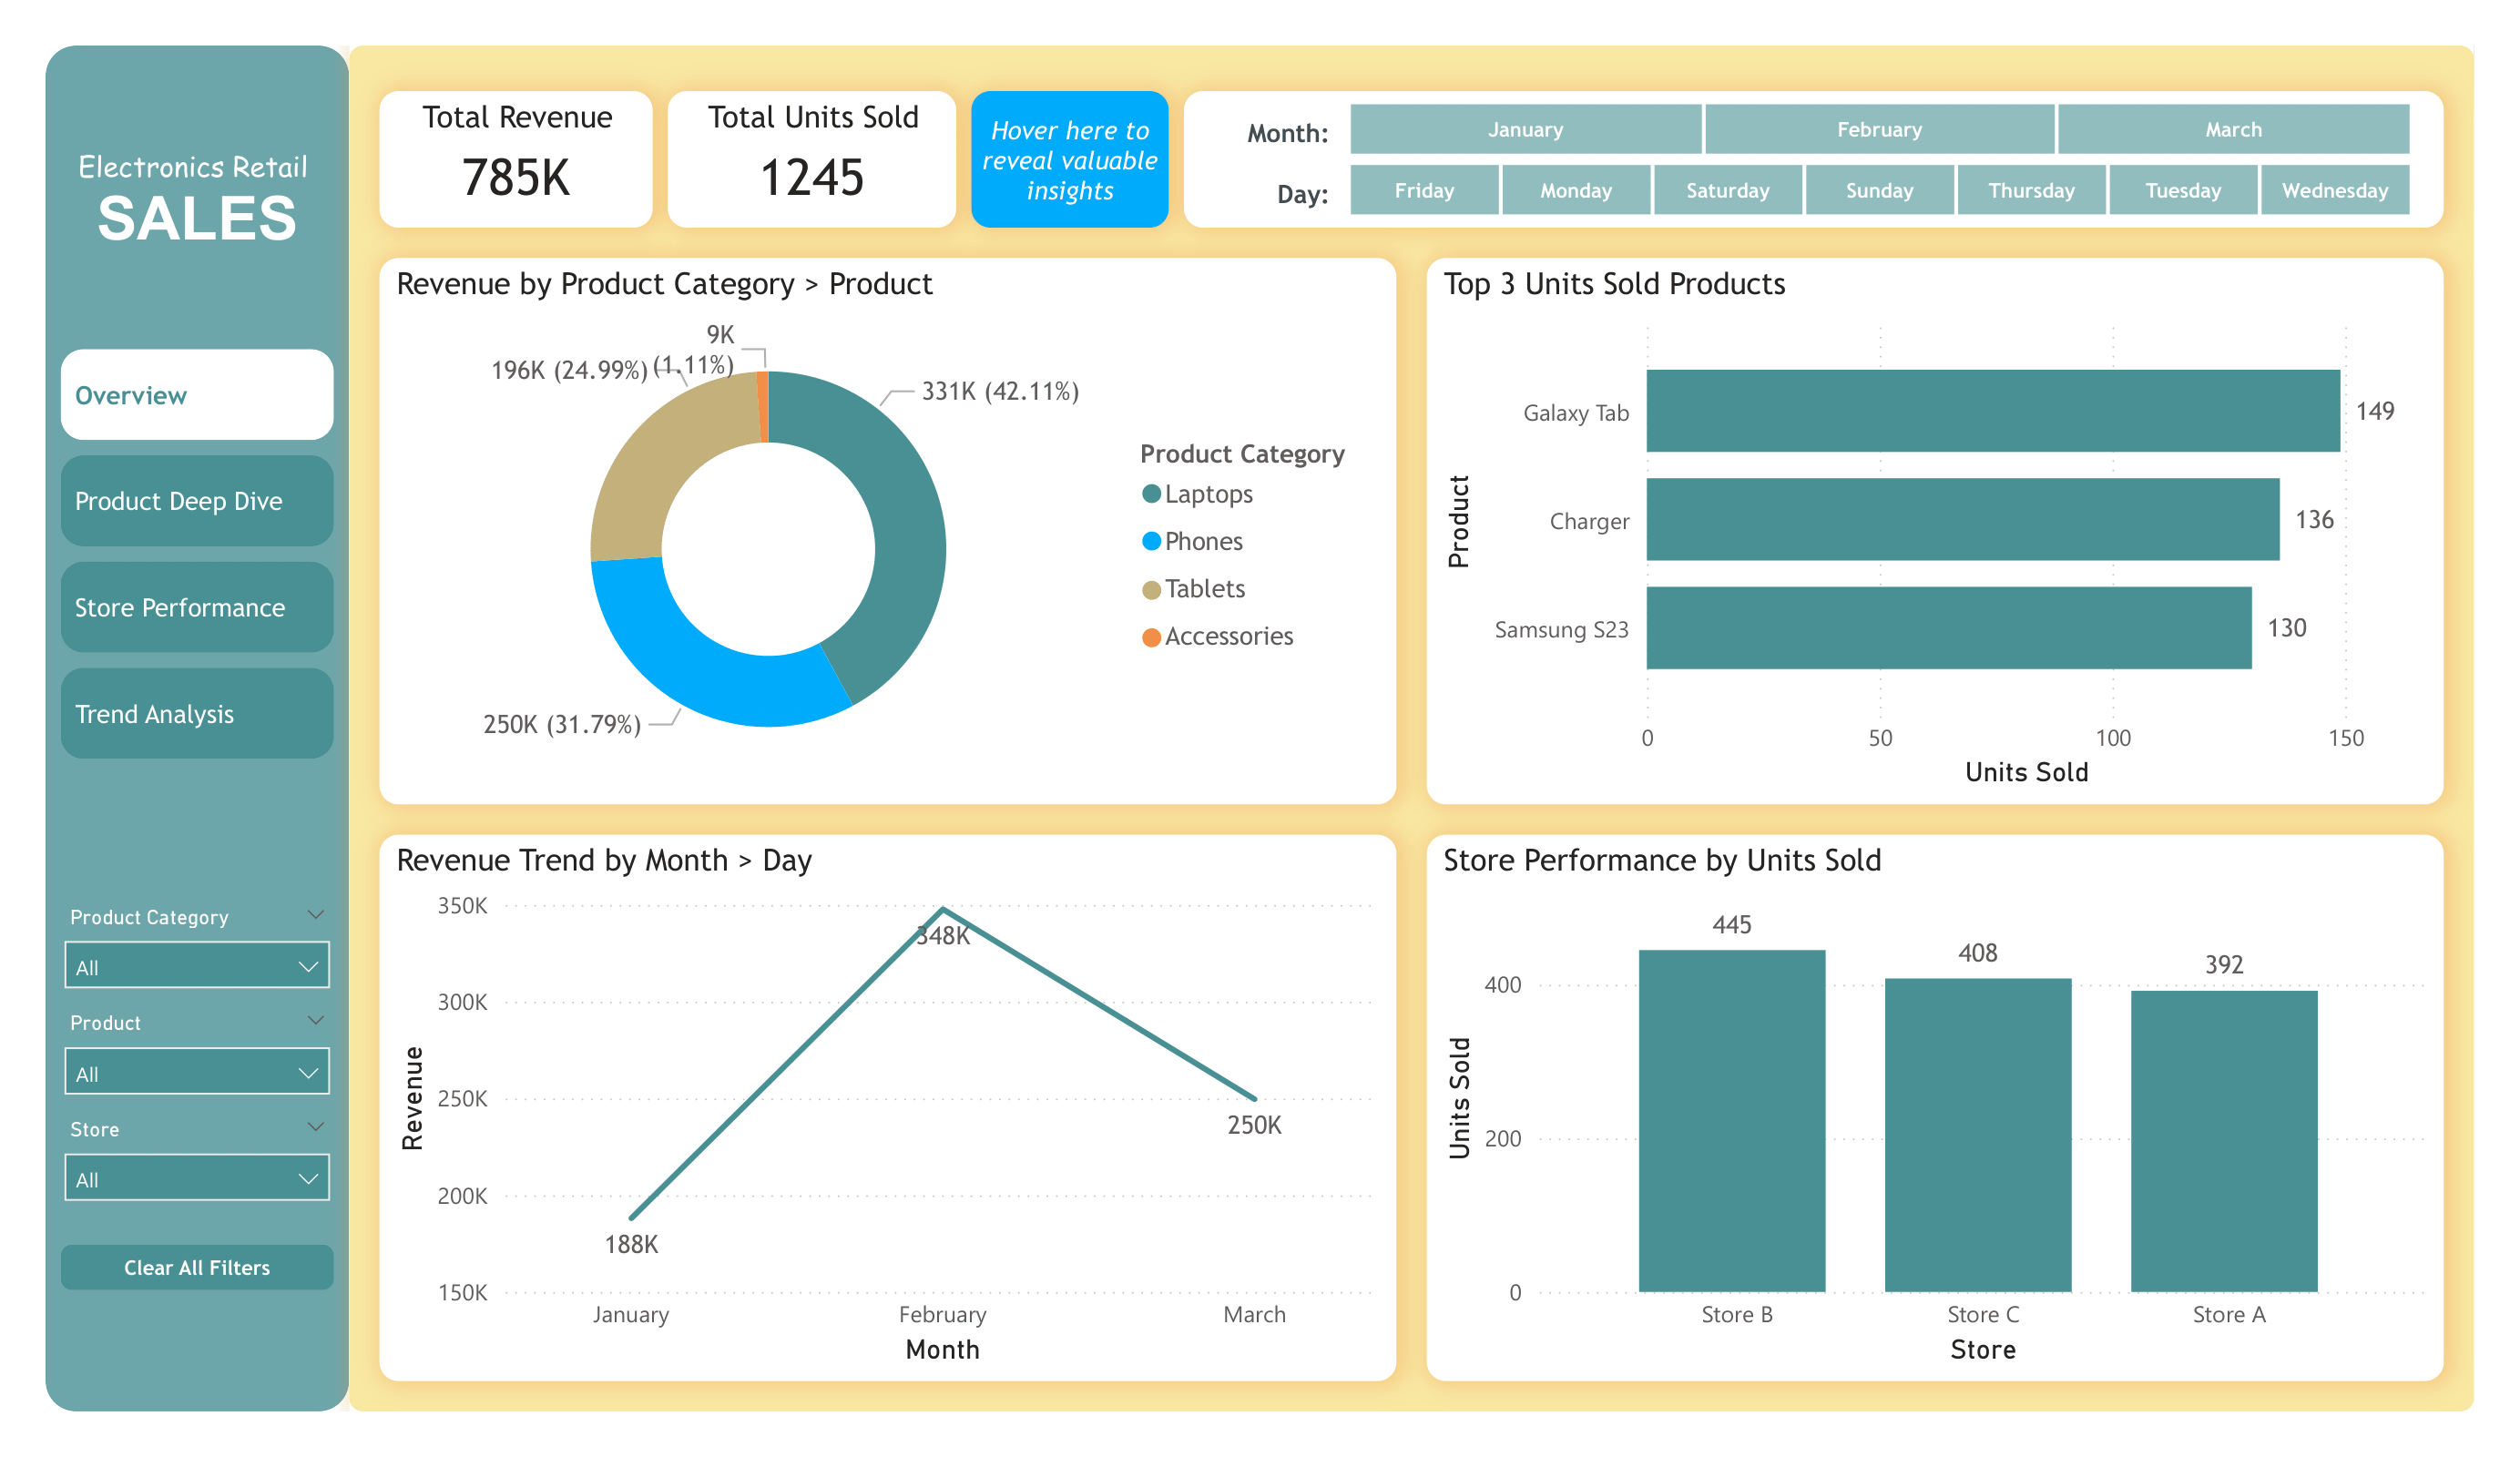

The dashboard page shown, as its layout file describes it:
{"tool":"powerbi","page":{"name":"Overview","canvas":[1280,720],"ordinal":0},"visuals":[{"type":"group","id":"g1","title":"Group 1","box":[0,0,1280,720],"z":0},{"type":"shape","box":[0,0,160,720],"z":0,"group":"g1"},{"type":"shape","box":[160,0,1120,720],"z":1000,"group":"g1"},{"type":"card","title":"Total Revenue","fields":{"Values":["Sum(RR-PRAC4 - retail_sales_q1_2025_large.Revenue)"]},"box":[176,24,144,72],"z":1000},{"type":"shape","box":[600,24,664,72],"z":1000,"group":"g2"},{"type":"donutChart","title":"Revenue by Product Category > Product","fields":{"Category":["RR-PRAC4 - retail_sales_q1_2025_large.Product Category","RR-PRAC4 - retail_sales_q1_2025_large.Product"],"Y":["Sum(Sales_Q12025.Revenue)"]},"box":[176,112,536,288],"z":2000},{"type":"clusteredColumnChart","title":"Store Performance by Units Sold","fields":{"Category":["RR-PRAC4 - retail_sales_q1_2025_large.Store"],"Y":["Sum(RR-PRAC4 - retail_sales_q1_2025_large.Units Sold)"]},"box":[728,416,536,288],"z":3000},{"type":"clusteredBarChart","title":"Top 3 Units Sold Products","fields":{"Category":["RR-PRAC4 - retail_sales_q1_2025_large.Product"],"Y":["Sum(Sales_Q12025.Units Sold)"]},"box":[728,112,536,288],"z":4000},{"type":"lineChart","title":"Revenue Trend by Month > Day","fields":{"Category":["Dates.Date.Variation.Date Hierarchy.Month","Dates.Date.Variation.Date Hierarchy.Day"],"Y":["Sum(Sales_Q12025.Revenue)"]},"box":[176,416,536,288],"z":5000},{"type":"card","title":"Total Units Sold","fields":{"Values":["Sales_Q12025.Total Units Sold"]},"box":[328,24,152,72],"z":6000},{"type":"textbox","box":[0,48,160,80],"z":7000},{"type":"slicer","fields":{"Values":["Dates.Date.Variation.Date Hierarchy.Month"]},"box":[667.4,23.8,602.5,40],"z":8000,"group":"g2"},{"type":"actionButton","box":[8,272,144,48],"z":8000},{"type":"textbox","box":[609.8,31.3,72,32],"z":9000,"group":"g2"},{"type":"actionButton","box":[8,216,144,48],"z":9000},{"type":"actionButton","box":[8,328,144,48],"z":10000},{"type":"slicer","fields":{"Values":["Sales_Q12025.Product Category"]},"box":[0,448,160,56],"z":11000},{"type":"slicer","fields":{"Values":["Sales_Q12025.Product"]},"box":[0,504,160,56],"z":12000},{"type":"actionButton","box":[8,160,144,48],"z":13000},{"type":"actionButton","box":[8,632,144,24],"z":14000},{"type":"card","fields":{"Values":["Sales_Q12025.InsightHint"]},"box":[488,24,104,72],"z":15000},{"type":"slicer","fields":{"Values":["Sales_Q12025.Store"]},"box":[0,560,160,56],"z":16000},{"type":"group","id":"g2","title":"Group 2","box":[600,23.8,669.9,72.2],"z":17000},{"type":"slicer","fields":{"Values":["Dates.DayOfWeek"]},"box":[667.4,55.8,602.5,40],"z":17000,"group":"g2"},{"type":"textbox","box":[617.8,63.3,64,32],"z":19000,"group":"g2"}]}

Visuals, with their boxes on the page's 1280x720 design canvas (x1, y1, x2, y2). These are canvas units, not pixel positions in the 2520x1457 screenshot, which may show the page scaled, cropped or inside an application window:
"Group 1" group: {"left": 0, "top": 0, "right": 1280, "bottom": 720}
shape: {"left": 0, "top": 0, "right": 160, "bottom": 720}
shape: {"left": 160, "top": 0, "right": 1280, "bottom": 720}
"Total Revenue" card: {"left": 176, "top": 24, "right": 320, "bottom": 96}
shape: {"left": 600, "top": 24, "right": 1264, "bottom": 96}
"Revenue by Product Category > Product" donutChart: {"left": 176, "top": 112, "right": 712, "bottom": 400}
"Store Performance by Units Sold" clusteredColumnChart: {"left": 728, "top": 416, "right": 1264, "bottom": 704}
"Top 3 Units Sold Products" clusteredBarChart: {"left": 728, "top": 112, "right": 1264, "bottom": 400}
"Revenue Trend by Month > Day" lineChart: {"left": 176, "top": 416, "right": 712, "bottom": 704}
"Total Units Sold" card: {"left": 328, "top": 24, "right": 480, "bottom": 96}
textbox: {"left": 0, "top": 48, "right": 160, "bottom": 128}
slicer - Dates.Date.Variation.Date Hierarchy.Month: {"left": 667, "top": 24, "right": 1270, "bottom": 64}
actionButton: {"left": 8, "top": 272, "right": 152, "bottom": 320}
textbox: {"left": 610, "top": 31, "right": 682, "bottom": 63}
actionButton: {"left": 8, "top": 216, "right": 152, "bottom": 264}
actionButton: {"left": 8, "top": 328, "right": 152, "bottom": 376}
slicer - Sales_Q12025.Product Category: {"left": 0, "top": 448, "right": 160, "bottom": 504}
slicer - Sales_Q12025.Product: {"left": 0, "top": 504, "right": 160, "bottom": 560}
actionButton: {"left": 8, "top": 160, "right": 152, "bottom": 208}
actionButton: {"left": 8, "top": 632, "right": 152, "bottom": 656}
card - Sales_Q12025.InsightHint: {"left": 488, "top": 24, "right": 592, "bottom": 96}
slicer - Sales_Q12025.Store: {"left": 0, "top": 560, "right": 160, "bottom": 616}
"Group 2" group: {"left": 600, "top": 24, "right": 1270, "bottom": 96}
slicer - Dates.DayOfWeek: {"left": 667, "top": 56, "right": 1270, "bottom": 96}
textbox: {"left": 618, "top": 63, "right": 682, "bottom": 95}
